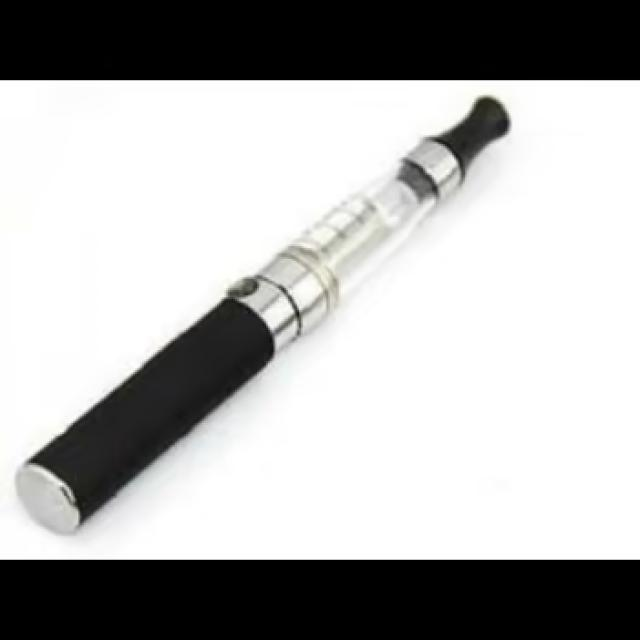Cigarette: (16, 96, 511, 537)
